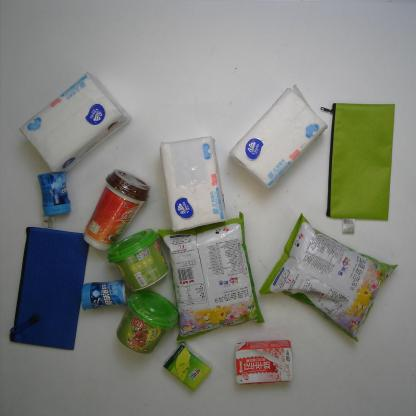Gum: (36, 170, 71, 218), (81, 280, 129, 311)
Instant Drink: (82, 168, 151, 252), (116, 289, 180, 355), (106, 228, 169, 293)
Milk: (235, 340, 293, 385)
Puffed Food: (257, 211, 398, 344), (158, 211, 266, 344)
Stationery: (8, 214, 90, 351), (321, 102, 396, 236)
Tissue: (18, 72, 132, 173), (228, 84, 329, 190), (159, 135, 227, 233), (162, 341, 212, 392)
